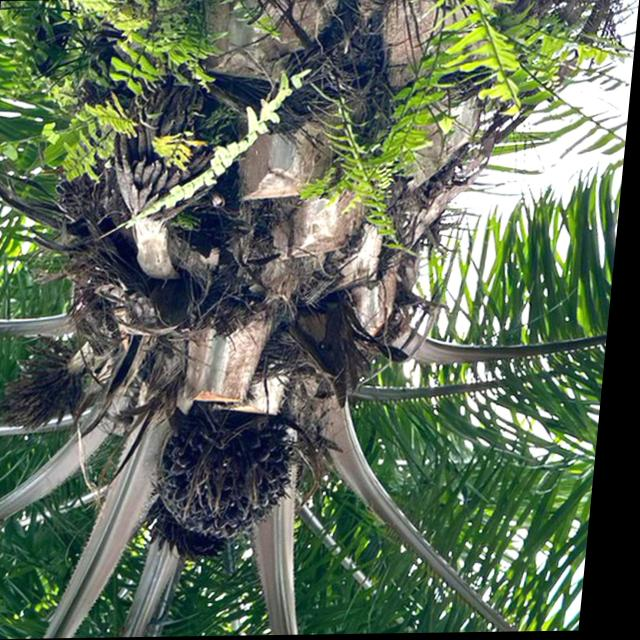ripe: (147, 397, 322, 554)
